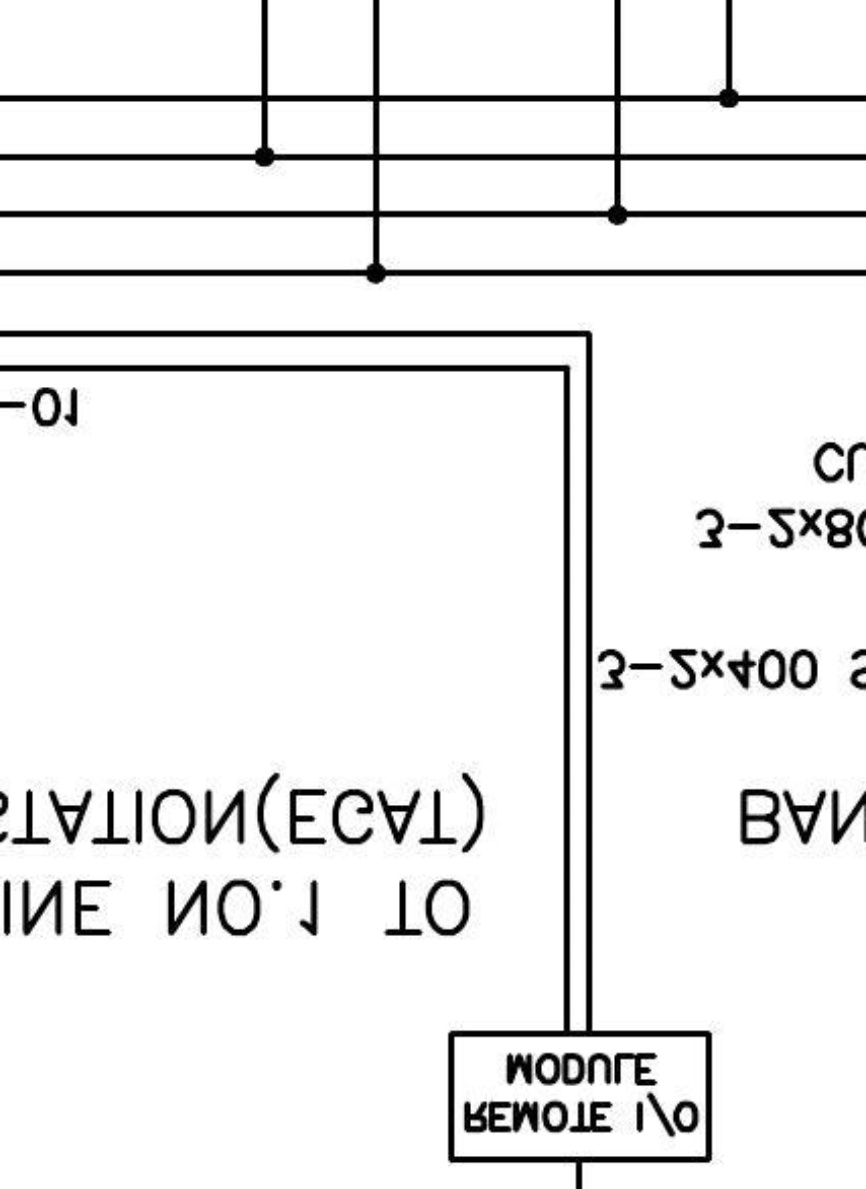remote_io_module: (447, 1029, 712, 1163)
